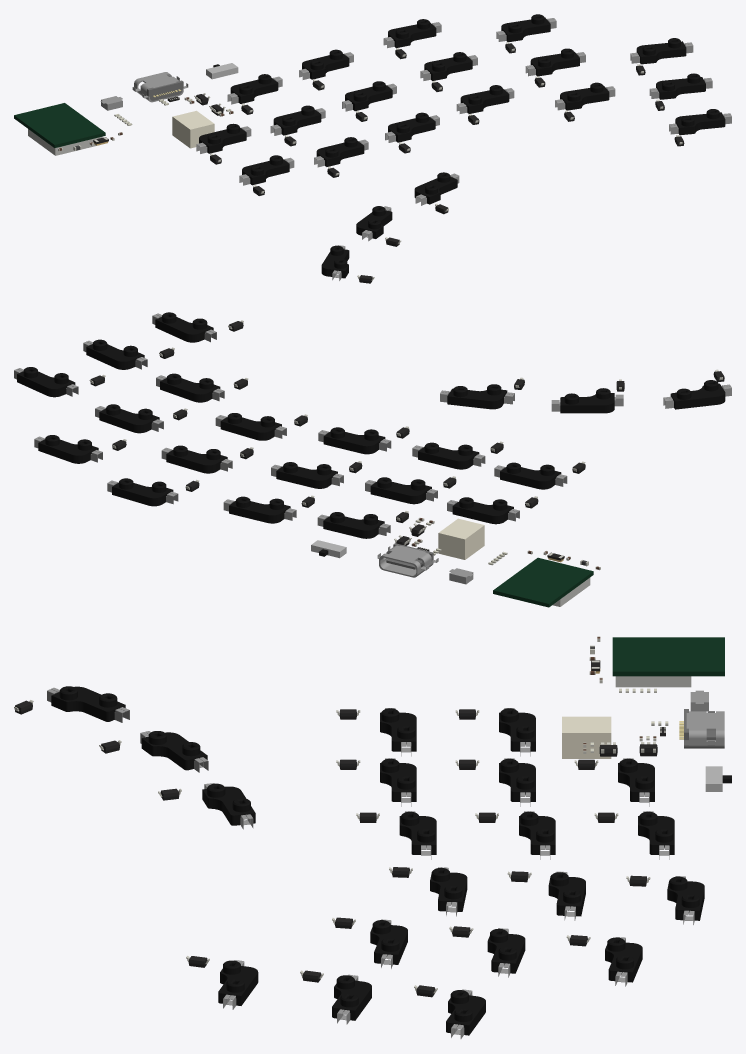
File: parts.glb
3 renders of one model, top to bottom at view 1: azimuth 30°, elevation 25°; view 2: azimuth 150°, elevation 25°; view 3: azimuth 270°, elevation 25°, orthographic. The views are drawn at different scales.
Visible parts, largest first — view 1: =>[0:1:1:9] (×20), object 64, object 61; view 2: =>[0:1:1:9] (×20), object 64, object 61; view 3: =>[0:1:1:9] (×20), object 64, object 61.
Boxes of the visible parts, x1,y1,x2,y2 form: =>[0:1:1:9] (×20): [196, 14, 731, 280]; object 64: [14, 63, 238, 155]; object 61: [73, 96, 214, 150]; =>[0:1:1:9] (×20): [14, 312, 731, 538]; object 64: [311, 540, 593, 607]; object 61: [417, 518, 588, 566]; =>[0:1:1:9] (×20): [47, 686, 704, 1038]; object 64: [591, 637, 731, 791]; object 61: [562, 645, 665, 758].
Size of the model in its own units: 0.1491 by 0.0062 by 0.1148.
